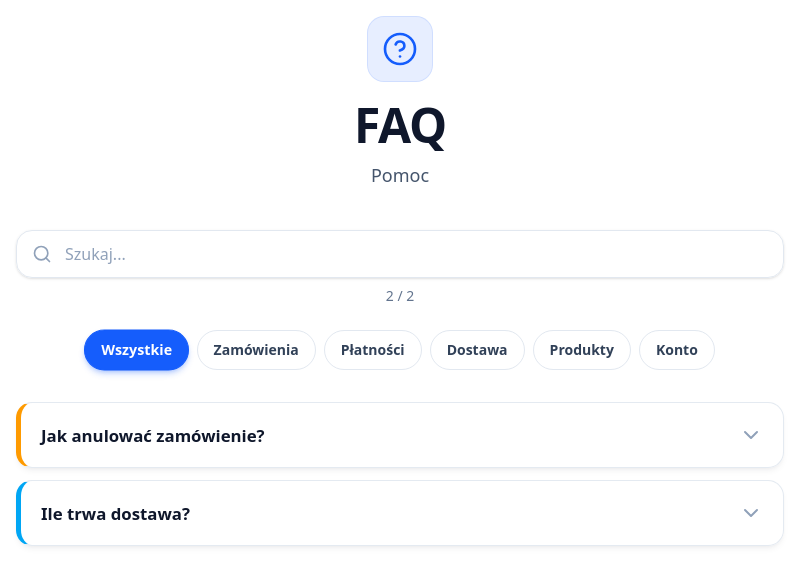
FaqPage Unit Tests › powinien przefiltrować listę po kliknięciu w kategorię
Note: Klikamy w kategorie Dostawa
Click the button "Dostawa" at (477, 350), box [430, 330, 525, 370]
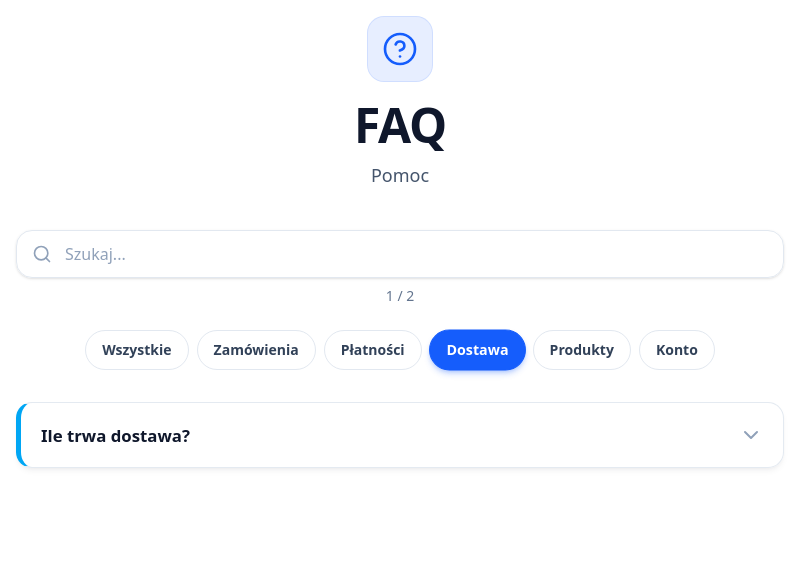
expect the text "Ile trwa dostawa?" is shown: met, box [41, 424, 198, 447]
expect the button "Jak anulować zamówienie?" is gone: met
